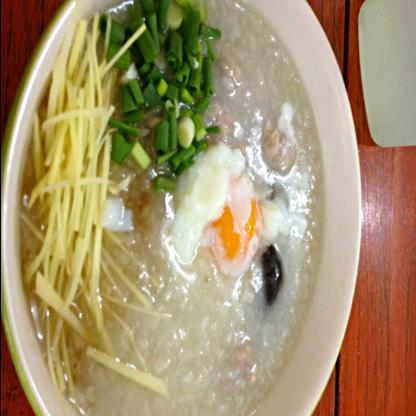Joke: (11, 4, 359, 416)
